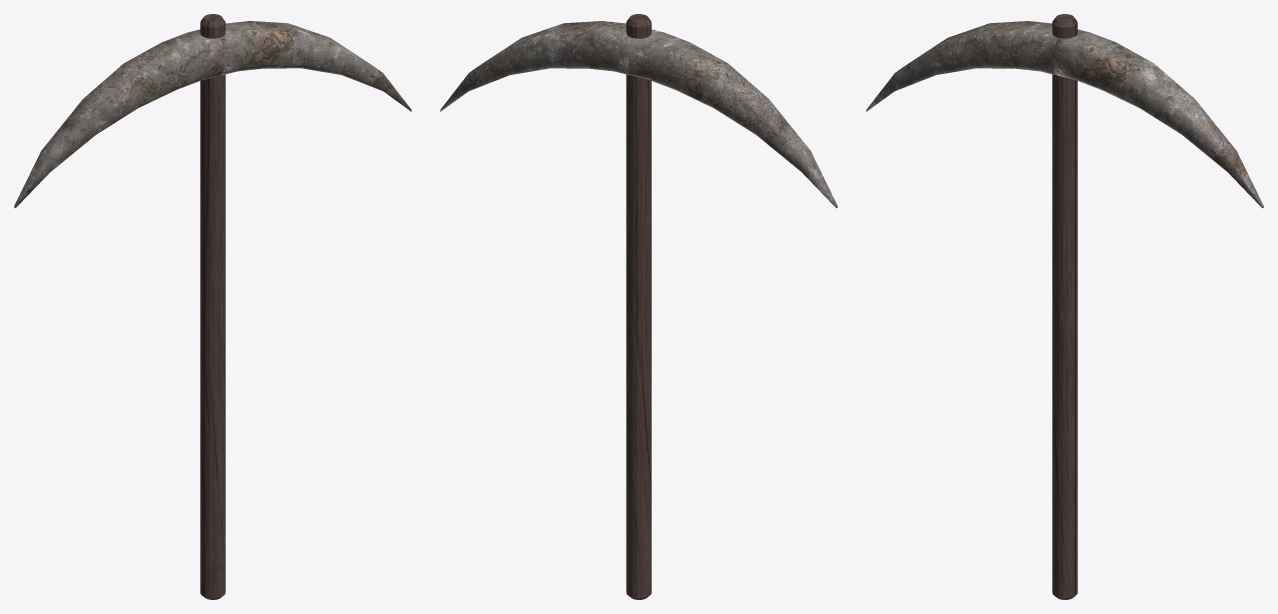
The model's file is Pickaxe.gltf.
The picture shows the model from 3 angles, left to right: view 1: azimuth 30°, elevation 25°; view 2: azimuth 150°, elevation 25°; view 3: azimuth 330°, elevation 25°; orthographic projection.
Parts seen in each view (by area): view 1: Axe, Staff; view 2: Axe, Staff; view 3: Axe, Staff.
Boxes of the visible parts, x1,y1,x2,y2 form: Axe: (14,21,411,208); Staff: (200,14,225,599); Axe: (440,21,837,208); Staff: (626,14,651,599); Axe: (866,21,1263,208); Staff: (1052,14,1077,599).
Bounding box in the file's own units: 0.6728 × 0.9386 × 0.06.
2 materials, 2 textured.
